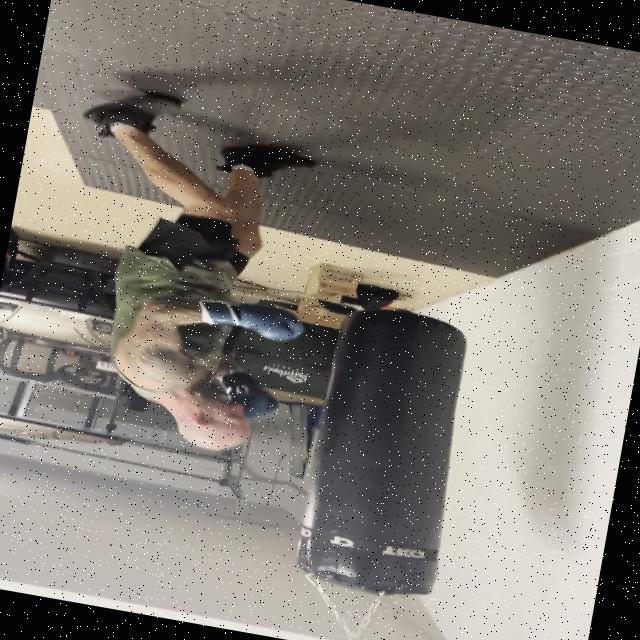bag: (288, 294, 482, 606)
uppercut: (78, 269, 324, 475)
